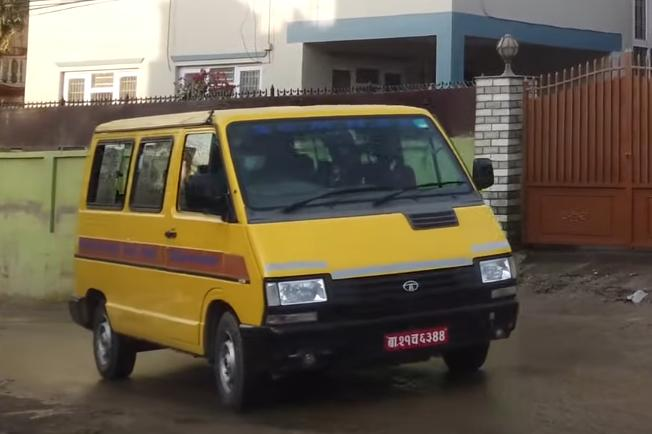school_bus: (64, 102, 521, 413)
